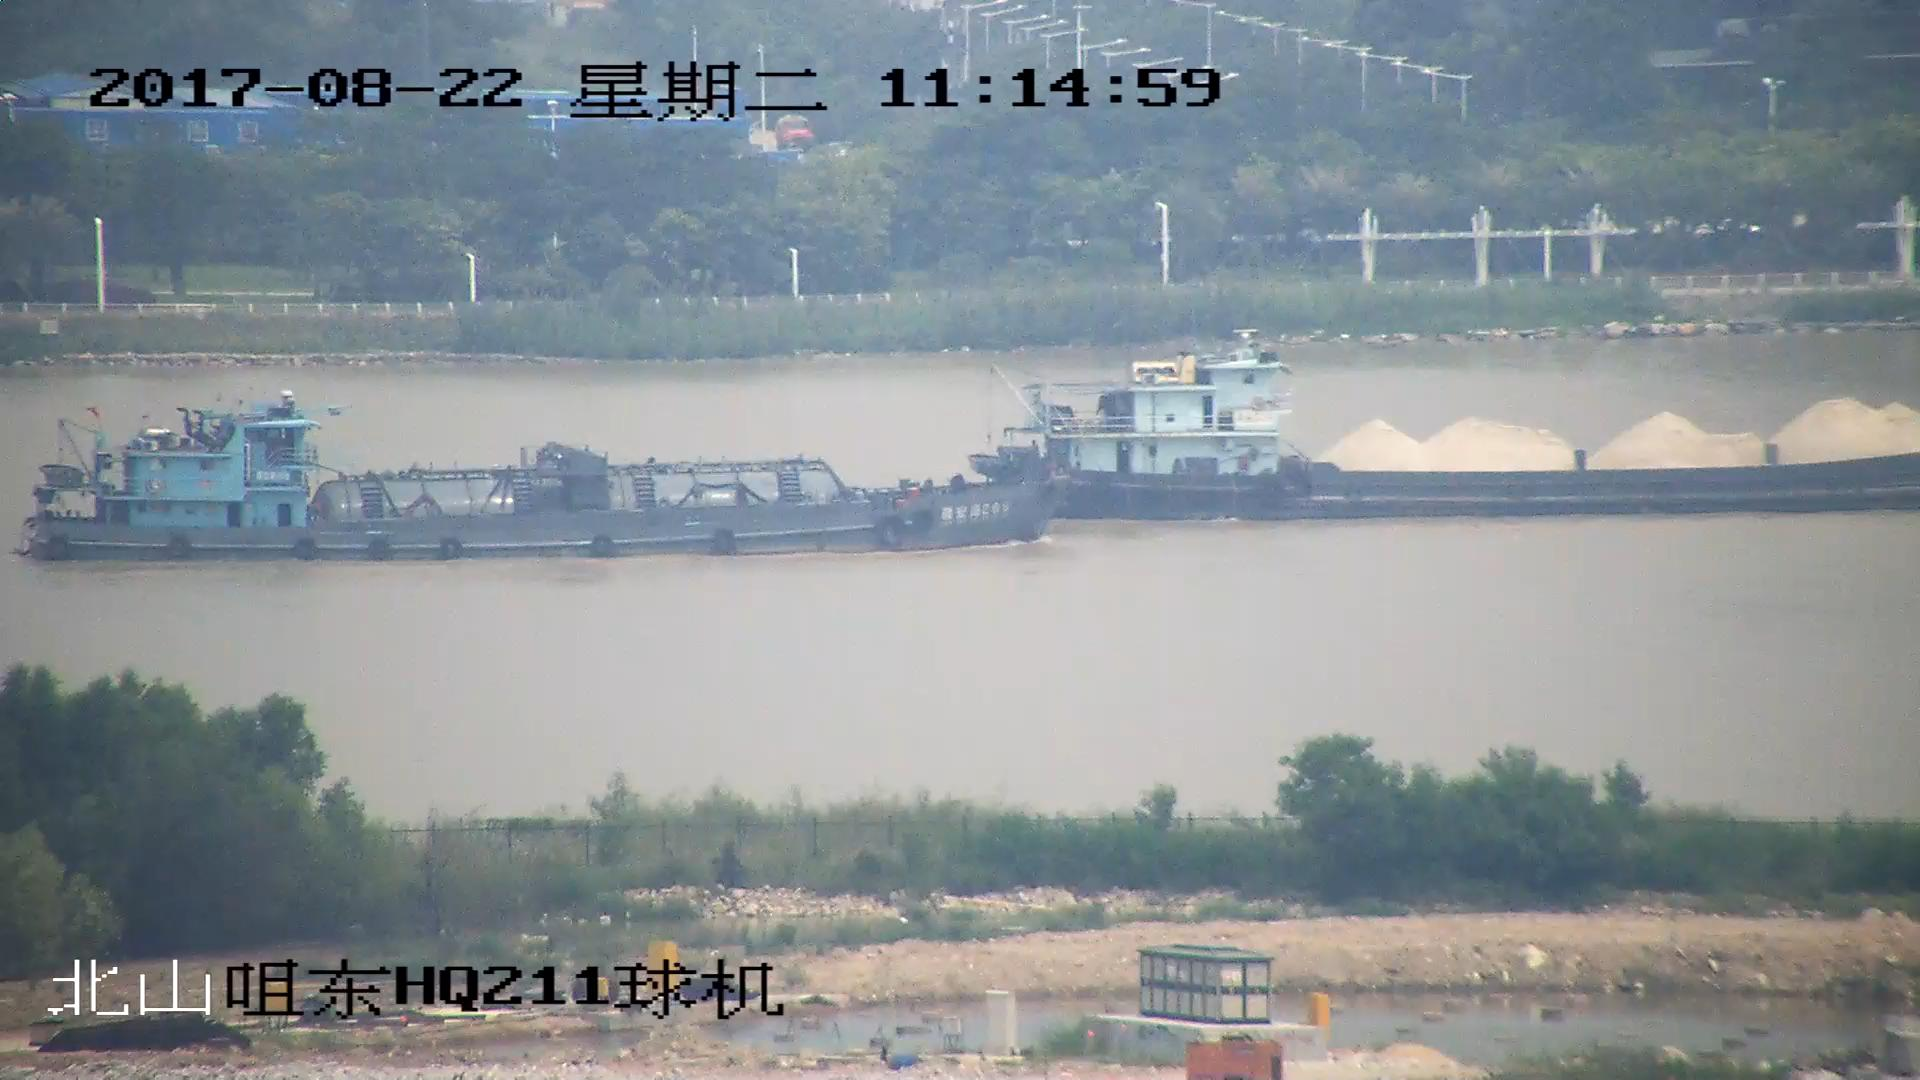bulk cargo carrier: (18, 405, 1061, 559)
ore carrier: (970, 352, 1920, 516)
